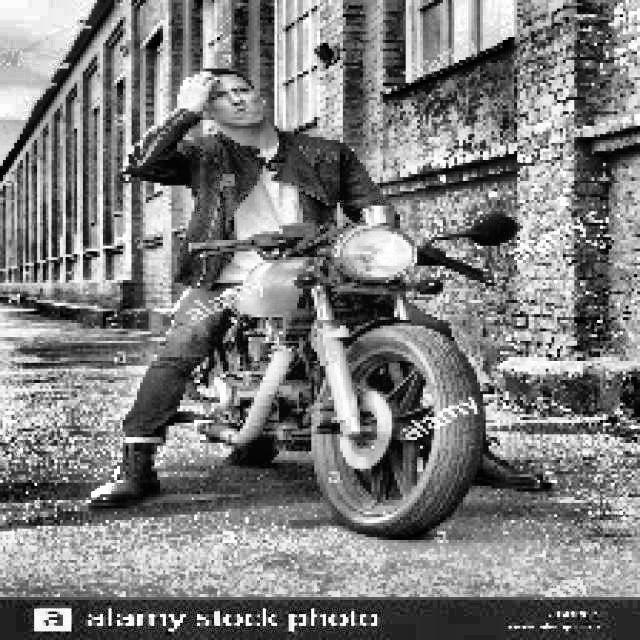motorcycle: (132, 213, 544, 536)
